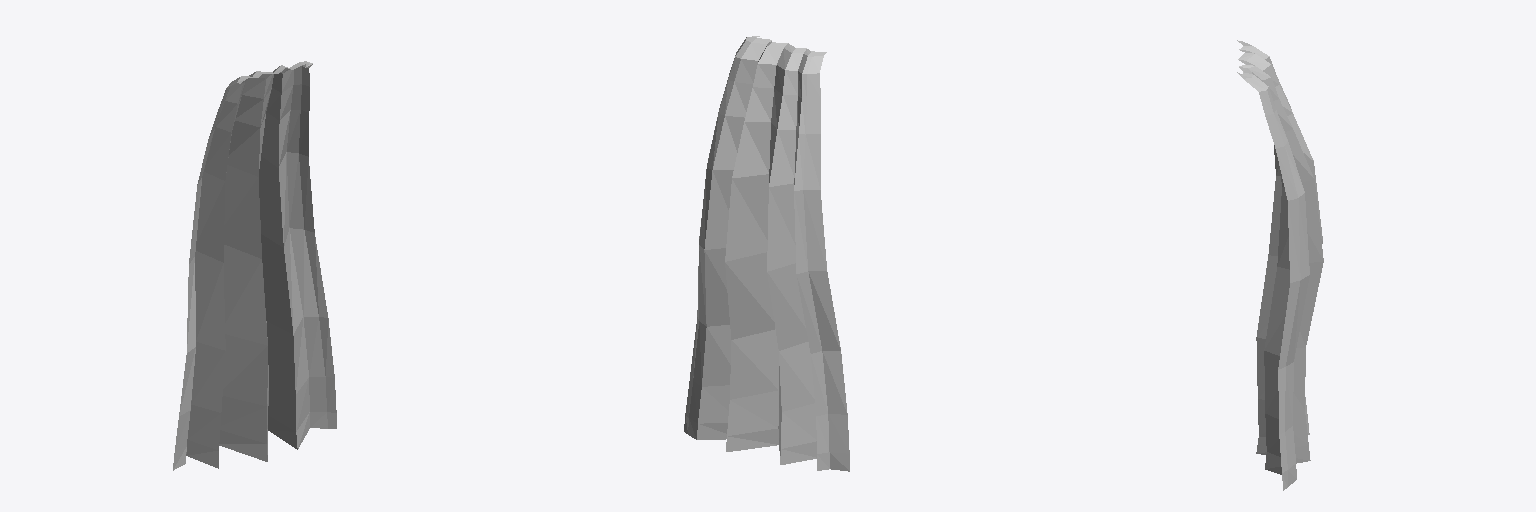
Rendered from _loth.obj.
3 renders of one model, left to right at view 1: azimuth 30°, elevation 25°; view 2: azimuth 150°, elevation 25°; view 3: azimuth 270°, elevation 25°, orthographic.
Parts seen in each view (by area): view 1: polySurface9 loftedSurface3; view 2: polySurface9 loftedSurface3; view 3: polySurface9 loftedSurface3.
Boxes of the visible parts, <box> form: polySurface9 loftedSurface3: <box>173,61,336,470</box>; polySurface9 loftedSurface3: <box>684,36,849,471</box>; polySurface9 loftedSurface3: <box>1237,40,1323,490</box>.
Size of the model in its own units: 2.31 by 5.27 by 1.06.